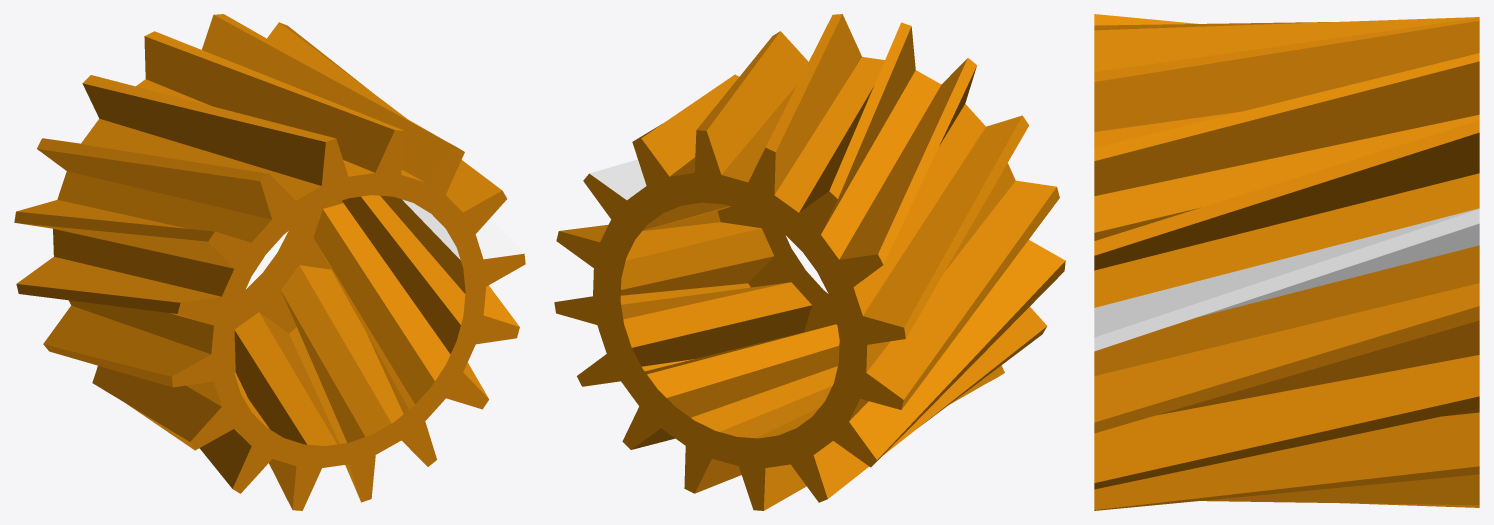
Rendered from 673- planet 4.fbx.
3 views of the same model, side by side, from view 1: azimuth 30°, elevation 25°; view 2: azimuth 150°, elevation 25°; view 3: azimuth 270°, elevation 25° (orthographic). The views are drawn at different scales.
Parts seen in each view (by area): view 1: 673 planet 4; view 2: 673 planet 4; view 3: 673 planet 4.
Boxes of the visible parts, left/top/right/bottom form: 673 planet 4: left=14, top=14, right=525, bottom=510; 673 planet 4: left=554, top=14, right=1065, bottom=510; 673 planet 4: left=1094, top=14, right=1479, bottom=510.
Bounding box in the file's own units: 257 × 257 × 200.
